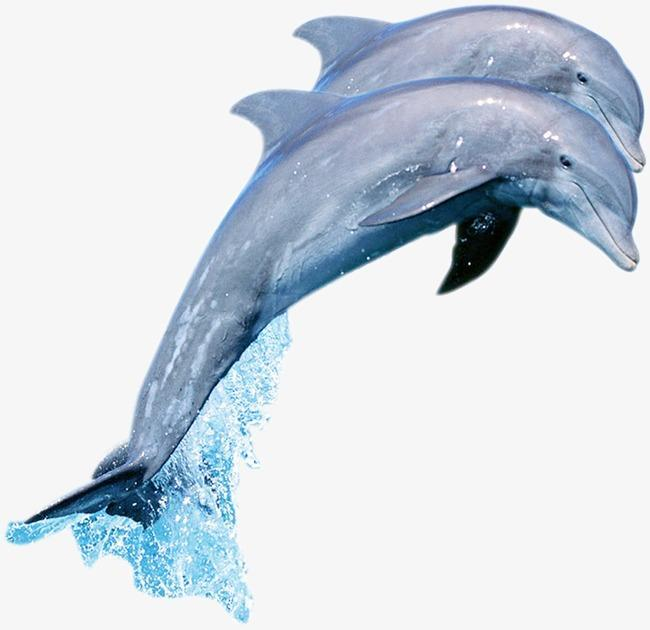fish: (30, 77, 642, 533), (288, 5, 649, 171)
